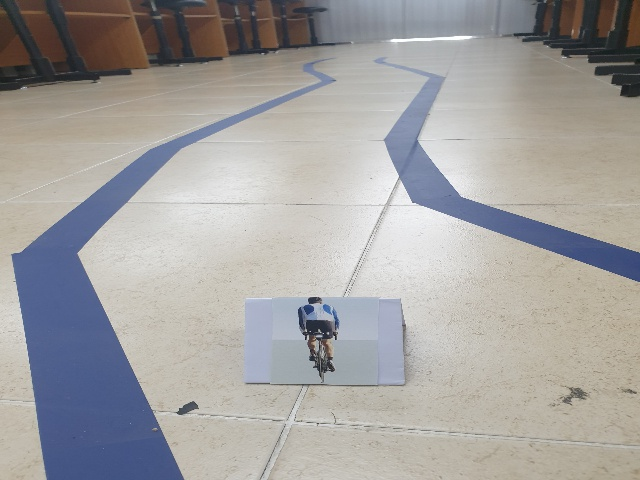Cyclist: (294, 297, 345, 386)
